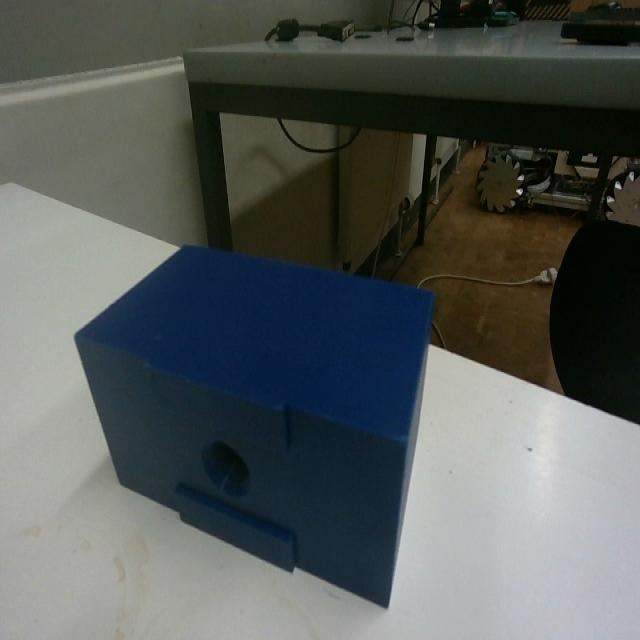Blue Cuboid: (72, 239, 436, 609)
